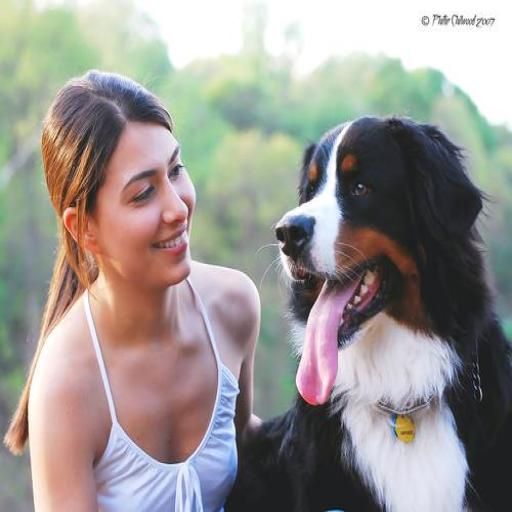dog_face: (285, 116, 483, 352)
